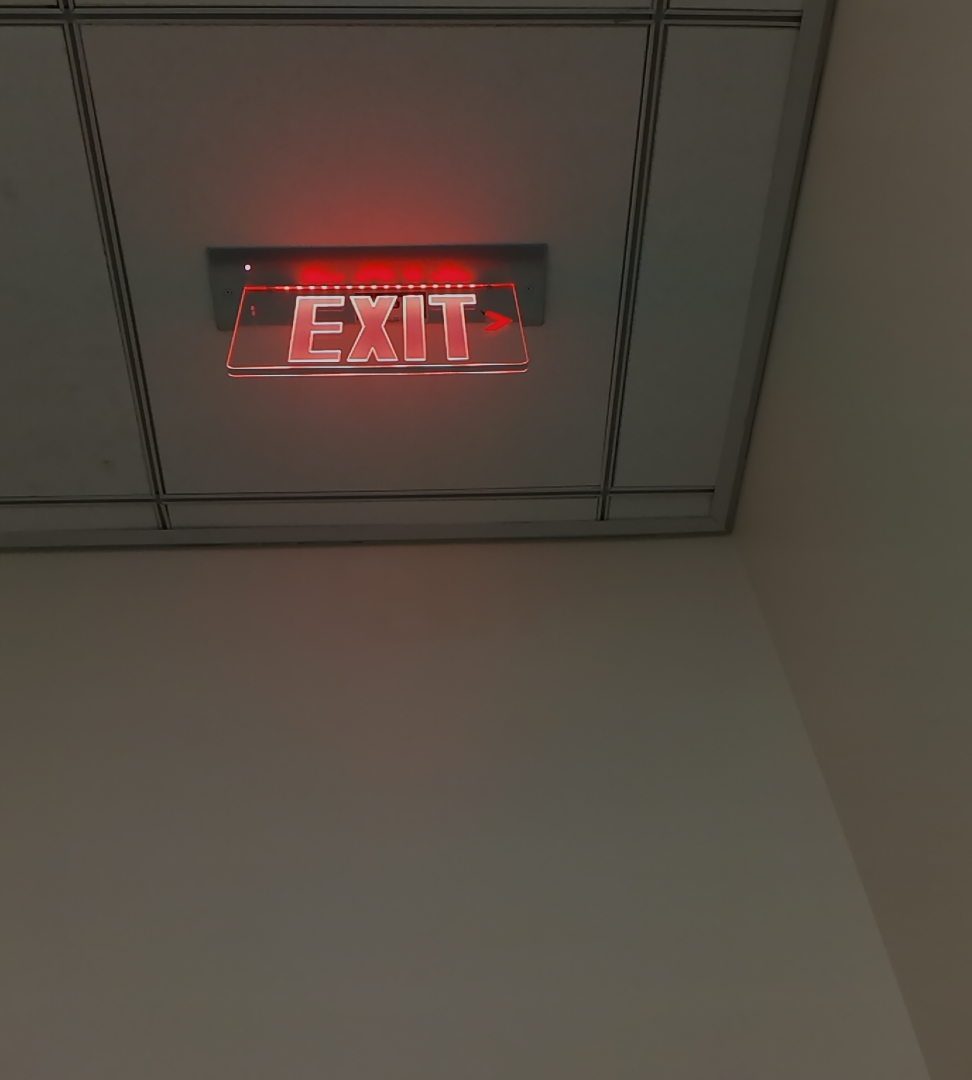emergency_exit: (207, 244, 546, 380), (223, 277, 531, 379)
